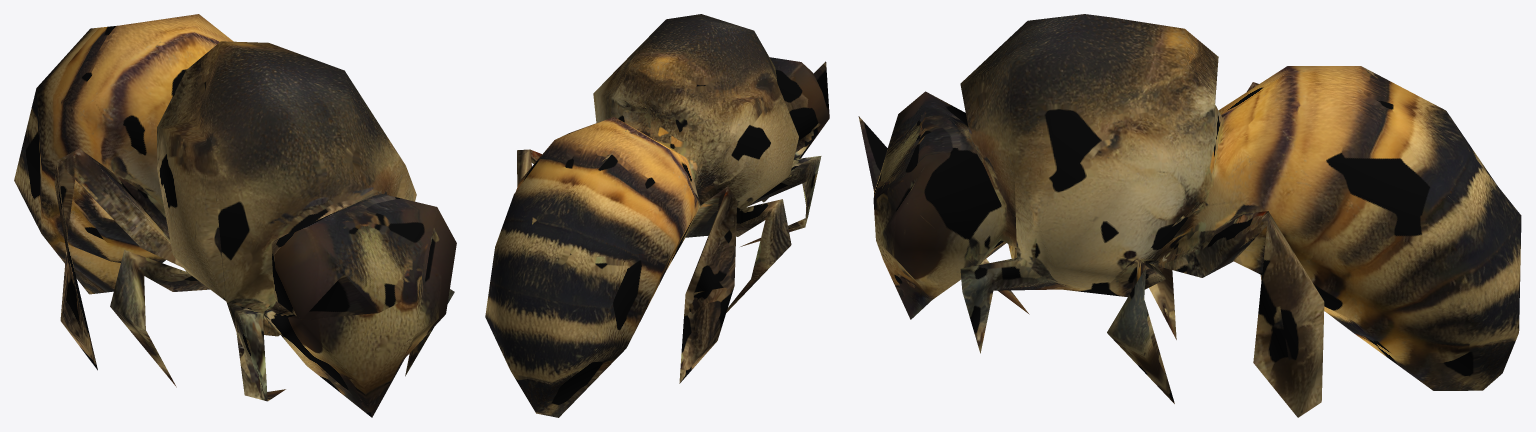
File: bee.hero-quality.1024.step1.glb
3 views of the same model, side by side, from view 1: azimuth 30°, elevation 25°; view 2: azimuth 150°, elevation 25°; view 3: azimuth 270°, elevation 25° (orthographic). The views are drawn at different scales.
Visible parts, largest first — view 1: Mesh1.0; view 2: Mesh1.0; view 3: Mesh1.0.
Part boxes in pixels (x1,y1,x2,y2): Mesh1.0: (14,14,456,417); Mesh1.0: (485,14,829,417); Mesh1.0: (858,14,1521,417).
Bounding box in the file's own units: 0.0253 × 0.03 × 0.0485.
1 material, 1 textured.
